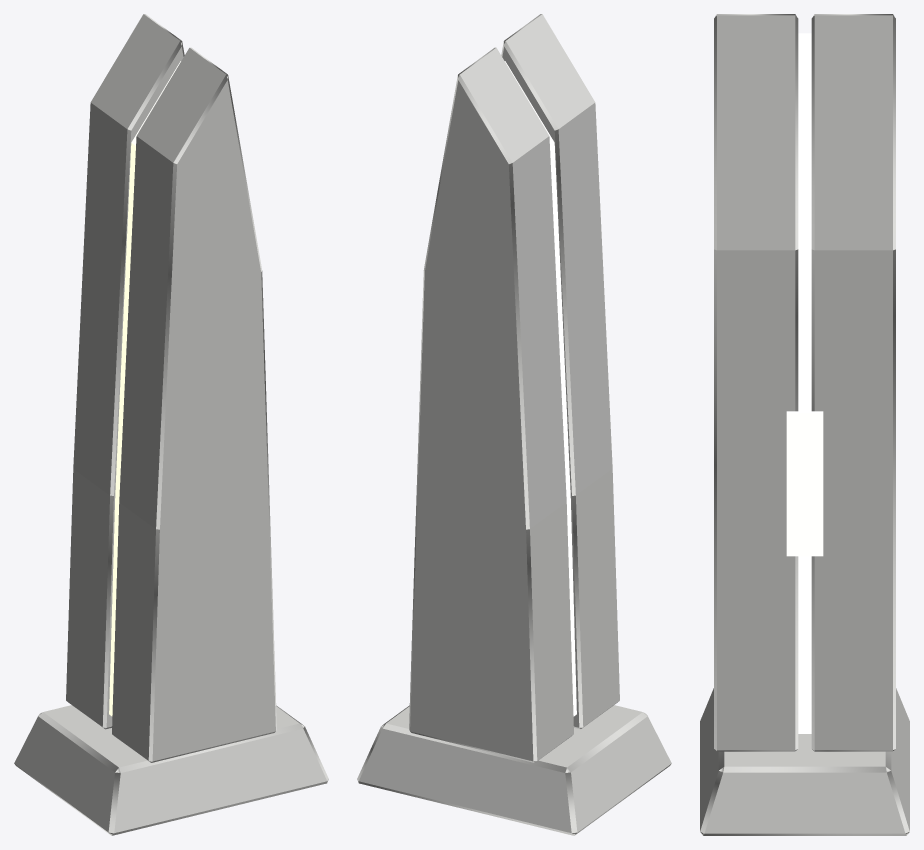
File: SM_SB_Kit_Monolith.fbx
The picture shows the model from 3 angles, left to right: view 1: azimuth 30°, elevation 25°; view 2: azimuth 150°, elevation 25°; view 3: azimuth 270°, elevation 25°; orthographic projection. The views are drawn at different scales.
Visible parts, largest first — view 1: SM_SB_Kit_Monolith; view 2: SM_SB_Kit_Monolith; view 3: SM_SB_Kit_Monolith.
Boxes of the visible parts, left/top/right/bottom form: SM_SB_Kit_Monolith: left=14, top=14, right=328, bottom=835; SM_SB_Kit_Monolith: left=357, top=14, right=671, bottom=835; SM_SB_Kit_Monolith: left=700, top=14, right=909, bottom=835.
Bounding box in the file's own units: 892 × 692 × 2812.
